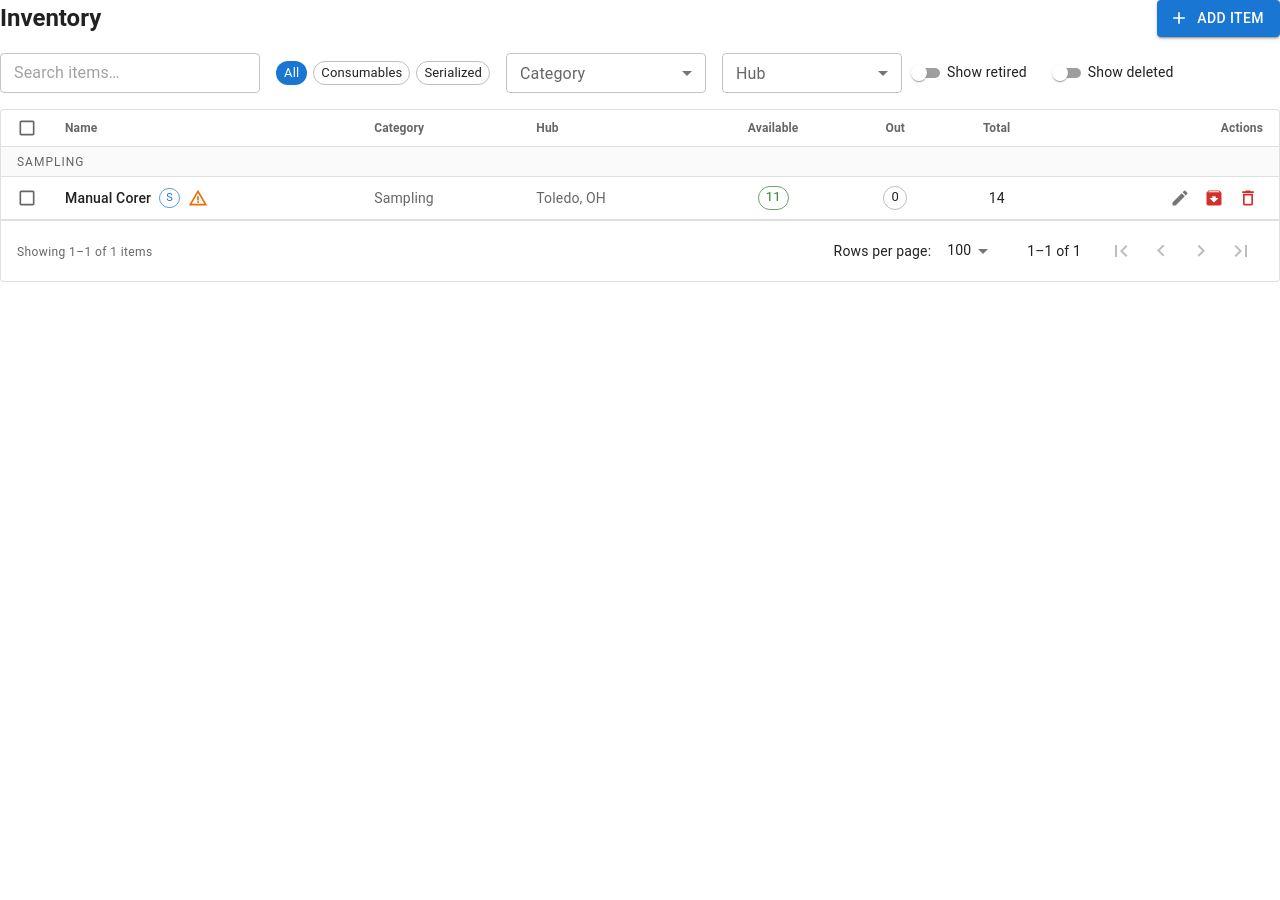
PR-2 · the inventory page reads itemCounts › drawer: "14 owned · 1 retired", a Returning chip, and the Units tab names the retired
Click the text "Manual Corer" at (108, 198), box [65,188,151,208]
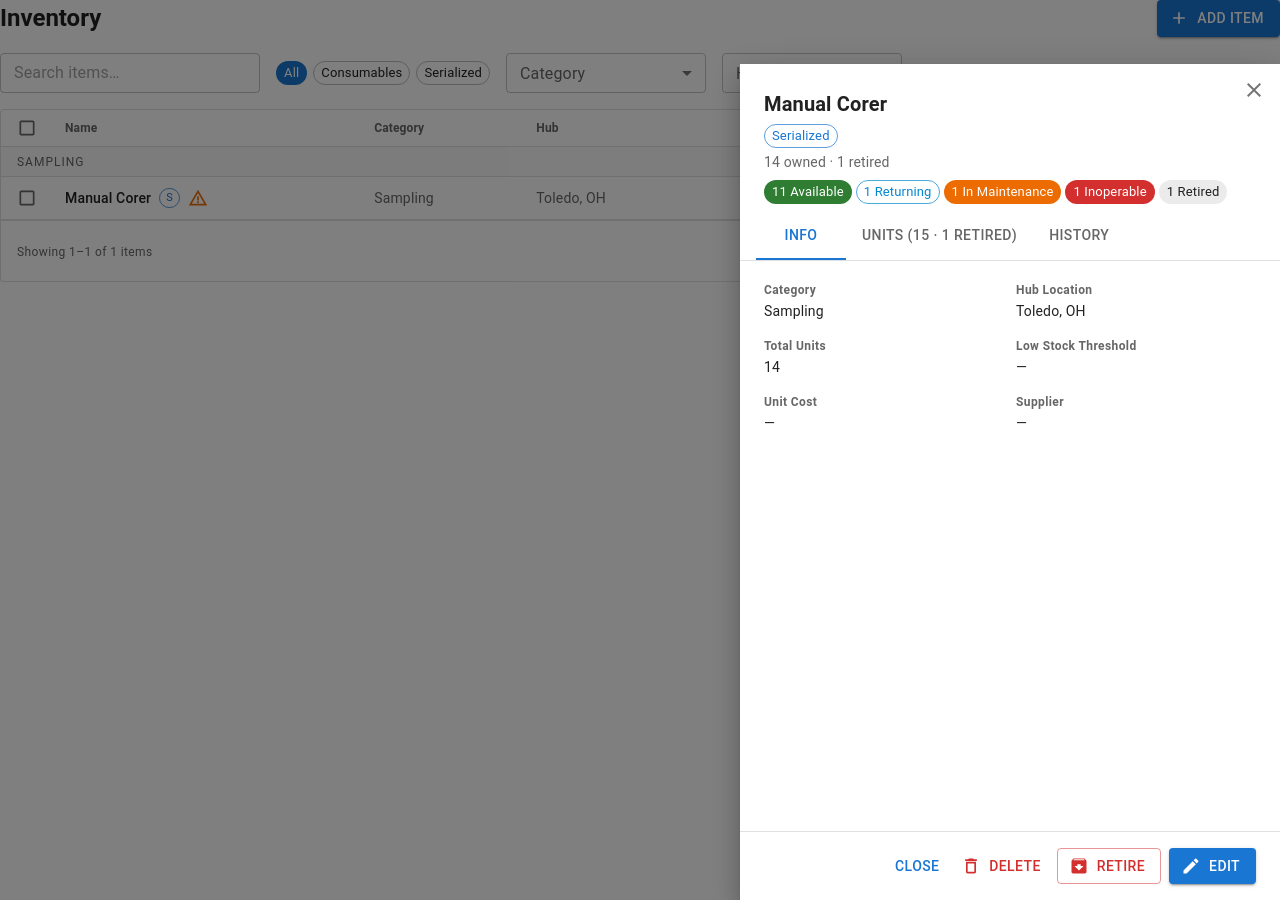
Now the text "14 owned · 1 retired" is shown, box [764,154,890,170]
Now the text "1 Returning" is shown, box [864,184,932,199]
Now the text "11 Available" is shown, box [772,184,844,199]
